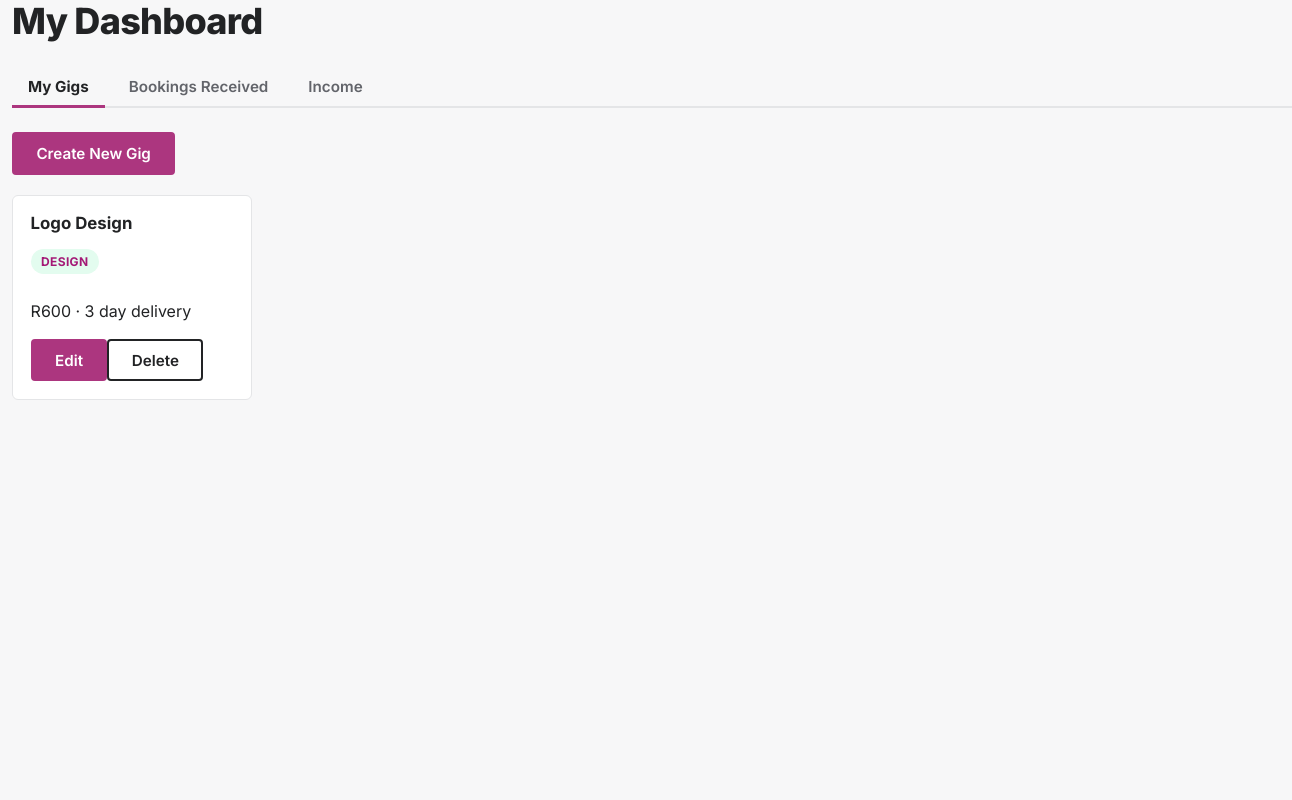
Test: FreelancerDashboardPage editing a gig › closes the edit form without saving when Cancel is clicked
This screenshot has width=1292, height=800.
Click the button "Edit" at (69, 360), box [31, 339, 107, 382]
(page scrolled)
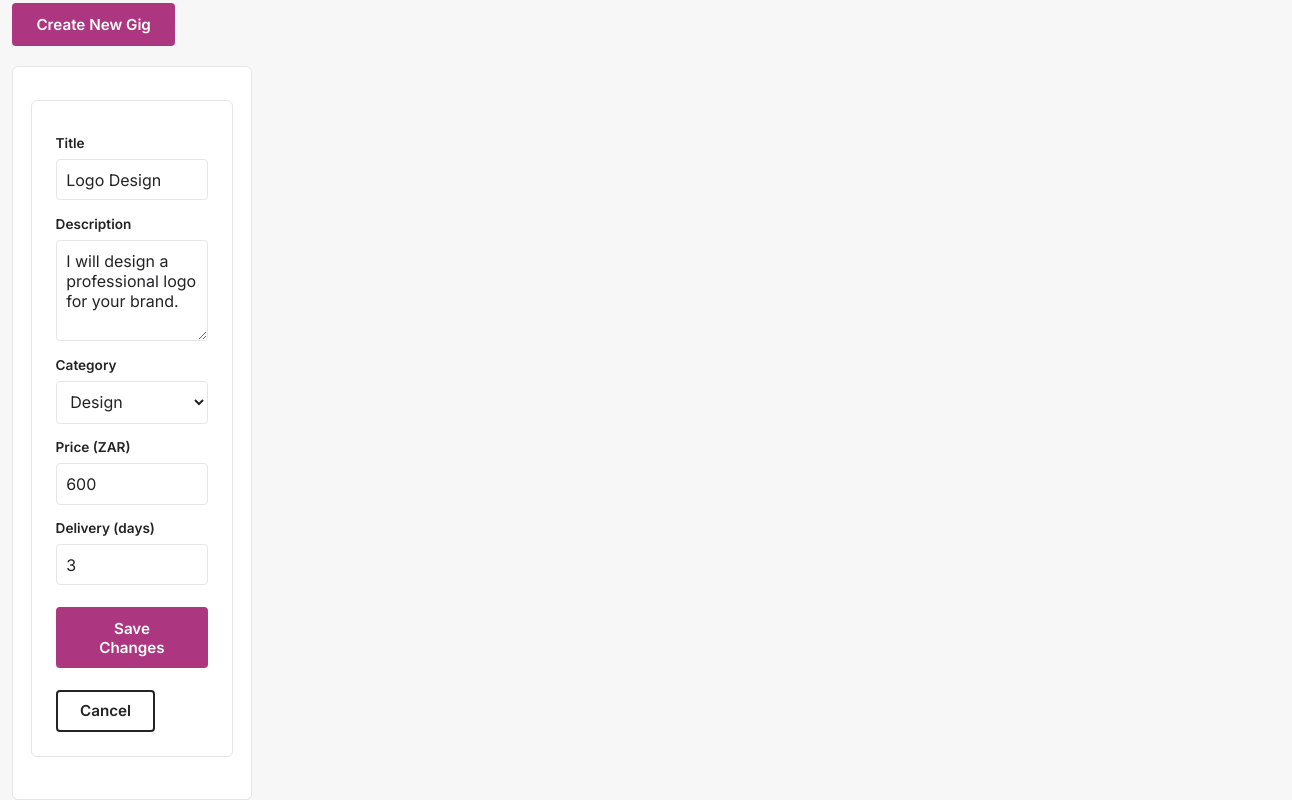
Click the button "Cancel" at (106, 711), box [56, 690, 155, 732]
(page scrolled)
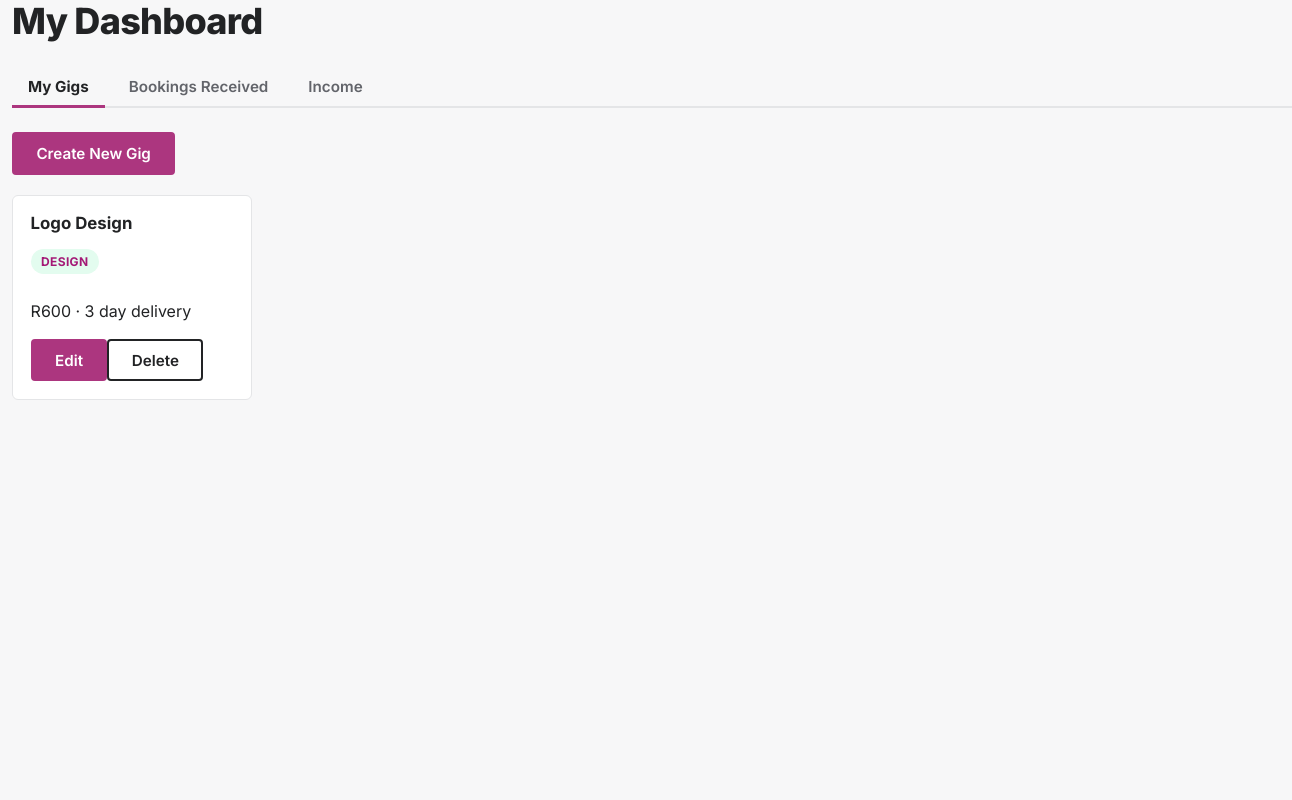
Check: the button "Save Changes" is gone
Check: the heading "Logo Design" is shown, box [31, 213, 132, 233]
